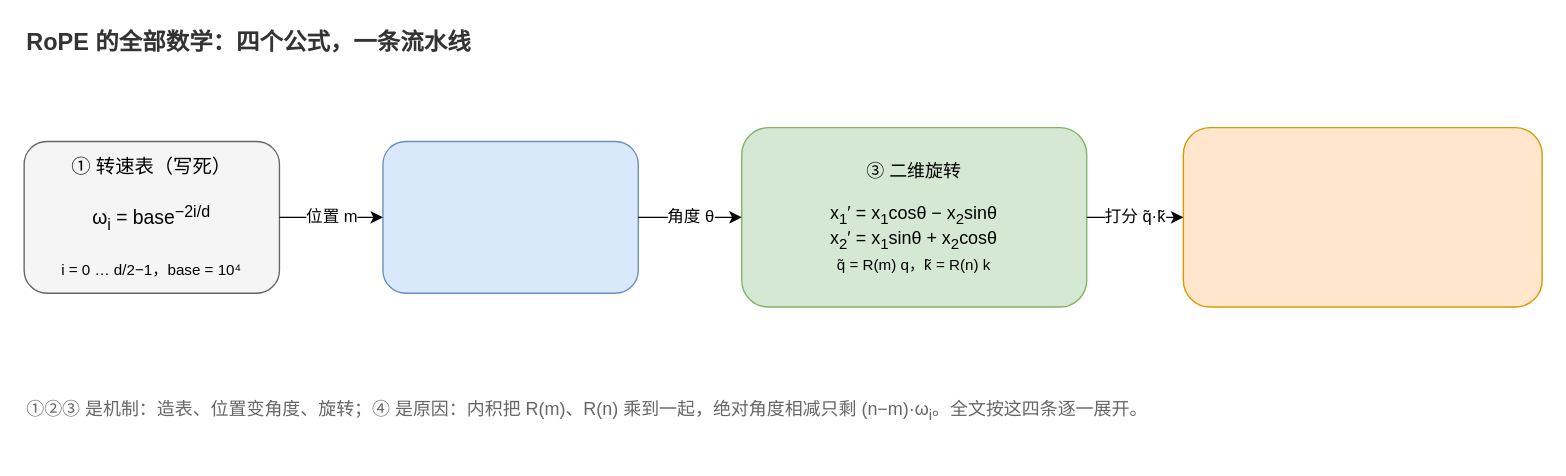
The diagram is 1566 pixels wide and 476 high, and some of its shapes have lost their labels. The centre of each missing label's shape, as x and y in pixels:
"② 位置 → 角度 θ m,i = m · ω i 位置编码到此完成" belongs at (510,216).
"④ 核心性质 R(m) T R(n) = R(n−m) 绝对位置相消 打分只依赖 n − m" belongs at (1362,216).
